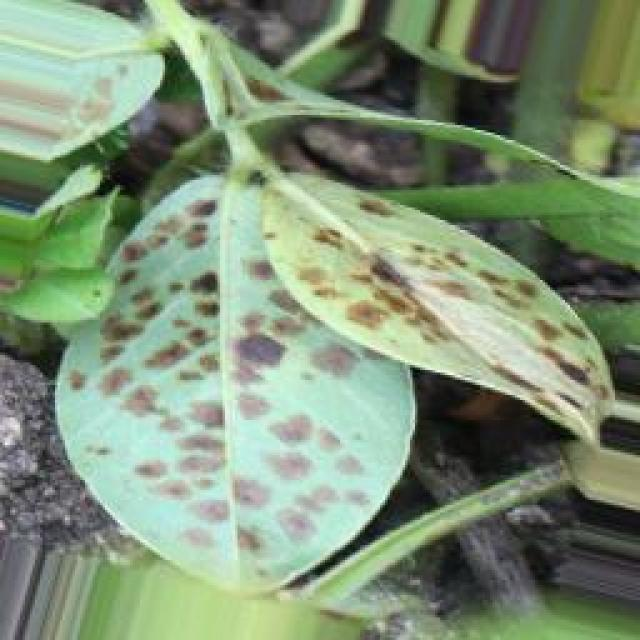Whitefly: (63, 152, 601, 554)
